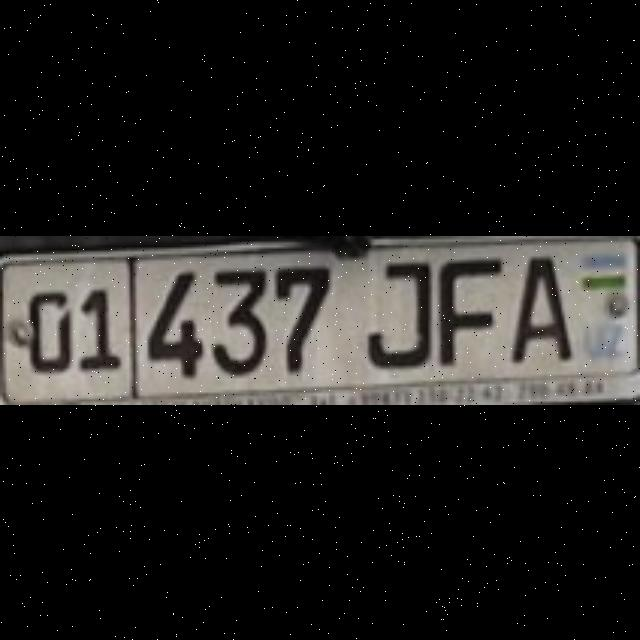0: (24, 286, 66, 368)
1: (76, 286, 118, 368)
3: (208, 265, 262, 371)
4: (142, 268, 196, 374)
7: (268, 262, 326, 372)
A: (507, 253, 567, 359)
F: (434, 256, 498, 362)
J: (362, 259, 428, 365)
